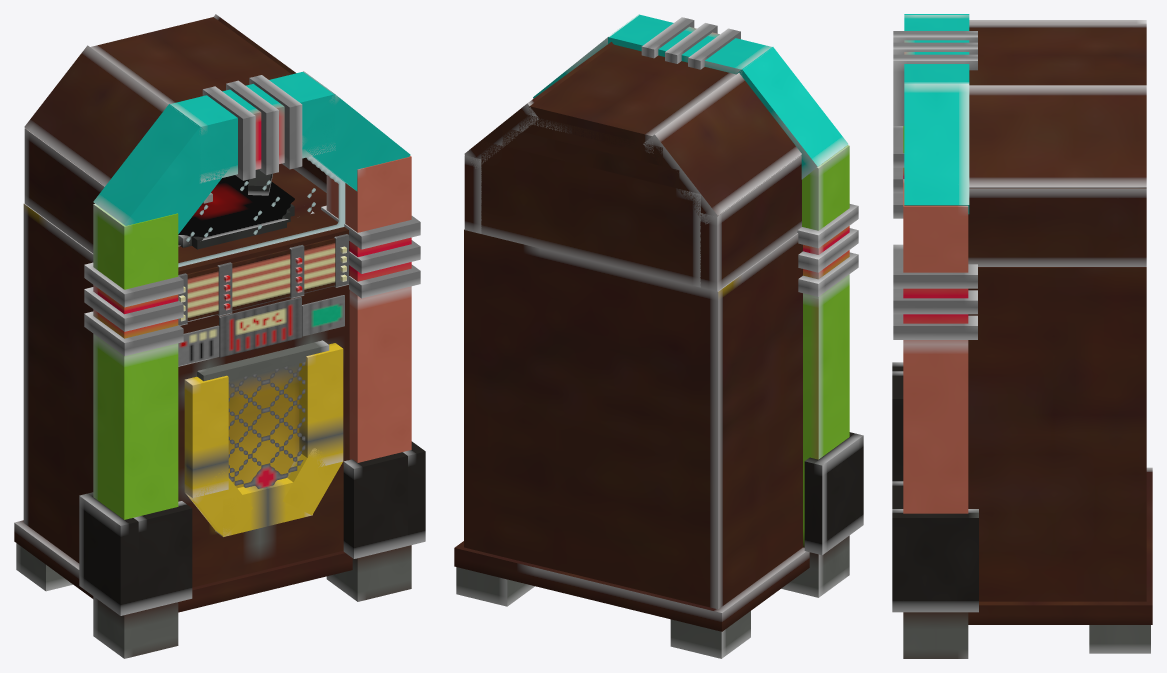
The model's file is jukebox.obj.
3 renders of one model, left to right at view 1: azimuth 30°, elevation 25°; view 2: azimuth 150°, elevation 25°; view 3: azimuth 270°, elevation 25°, orthographic. The views are drawn at different scales.
Visible parts, largest first — view 1: mainbox, leg1, leg2, mainbox4, toptopleft, mainbox6, toptop, leg1top, leg2b, musics, leg1a, leg2top (+30 smaller); view 2: mainbox, mainbox7, mainbox4, mainbox6, leg1, Base, mainbox3, leg1a, toptopleft, leg1top, mainbox8, toptop (+11 smaller); view 3: mainbox, mainbox5, leg2, mainbox2, mainbox6, leg2a, toptopright, leg2top, Base, toptop, leg2d, leg3 (+8 smaller).
Part boxes in pixels (<box>): mainbox: <box>23,163,349,587</box>; leg1: <box>93,336,178,658</box>; leg2: <box>326,288,411,601</box>; mainbox4: <box>24,45,168,185</box>; toptopleft: <box>93,104,237,233</box>; mainbox6: <box>90,17,291,104</box>; toptop: <box>170,72,335,183</box>; leg1top: <box>93,204,178,358</box>; leg2b: <box>343,452,407,558</box>; musics: <box>187,238,335,321</box>; leg1a: <box>79,492,138,615</box>; leg2top: <box>326,156,411,301</box>; mainbox: <box>464,229,802,609</box>; mainbox7: <box>481,141,700,287</box>; mainbox4: <box>643,73,801,224</box>; mainbox6: <box>529,44,735,153</box>; leg1: <box>781,276,849,597</box>; Base: <box>454,541,809,631</box>; mainbox3: <box>700,155,801,291</box>; leg1a: <box>804,432,863,555</box>; toptopleft: <box>737,47,848,179</box>; leg1top: <box>802,145,849,298</box>; mainbox8: <box>502,127,679,188</box>; toptop: <box>608,15,772,75</box>; mainbox: <box>968,267,1146,601</box>; mainbox5: <box>969,85,1146,187</box>; leg2: <box>903,344,968,658</box>; mainbox2: <box>968,188,1146,266</box>; mainbox6: <box>969,23,1146,85</box>; leg2a: <box>892,509,978,612</box>; toptopright: <box>904,82,969,214</box>; leg2top: <box>903,179,968,344</box>; Base: <box>968,467,1152,624</box>; toptop: <box>904,15,969,83</box>; leg2d: <box>893,244,977,288</box>; leg3: <box>1089,625,1150,653</box>.
Bounding box in the file's own units: 1.06 × 1.72 × 0.75.
